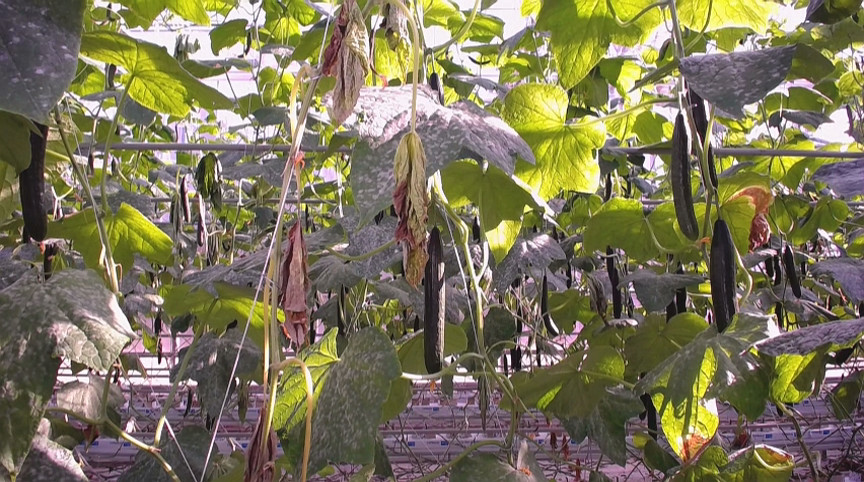cucumber: (670, 114, 700, 241), (19, 122, 48, 241), (711, 219, 741, 329), (426, 226, 446, 375), (785, 246, 805, 299)
